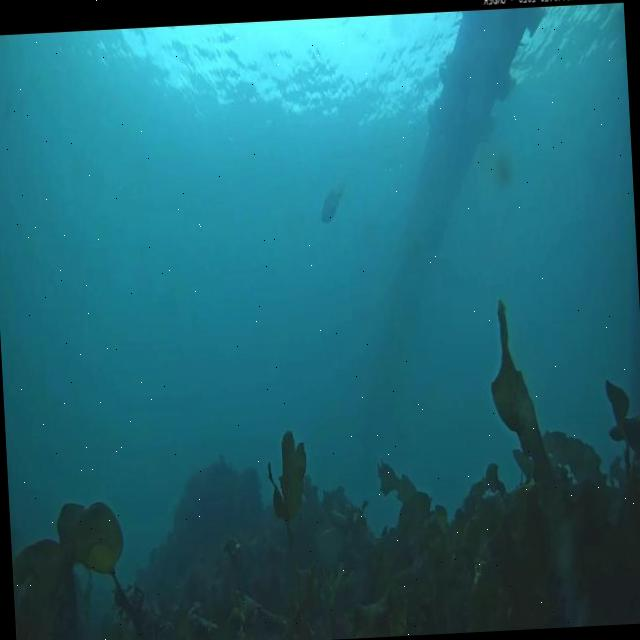fish: (318, 182, 348, 224)
